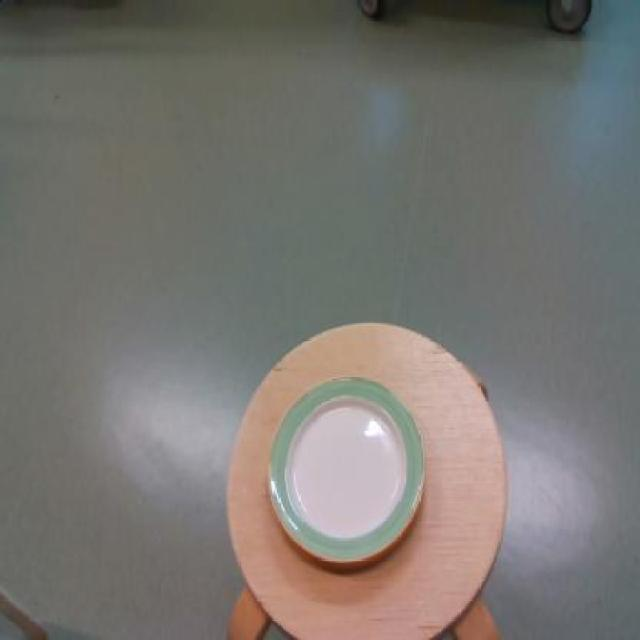plate: (267, 381, 425, 565)
